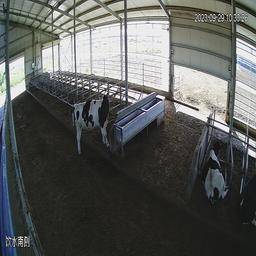cow: (61, 78, 123, 164), (197, 133, 230, 207), (239, 154, 255, 243)
